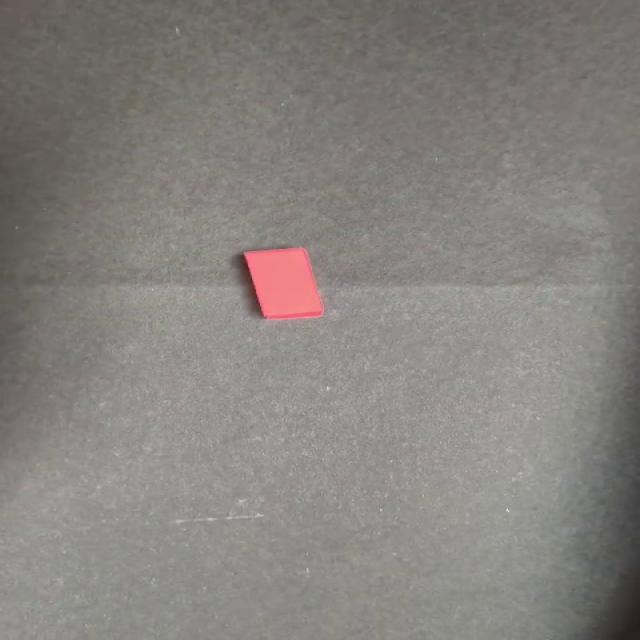red block: (241, 247, 324, 320)
